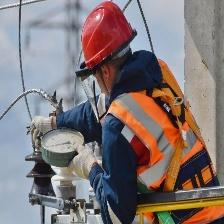Person: (68, 1, 224, 224)
helmet: (76, 1, 138, 83)
vest: (102, 56, 224, 224)
